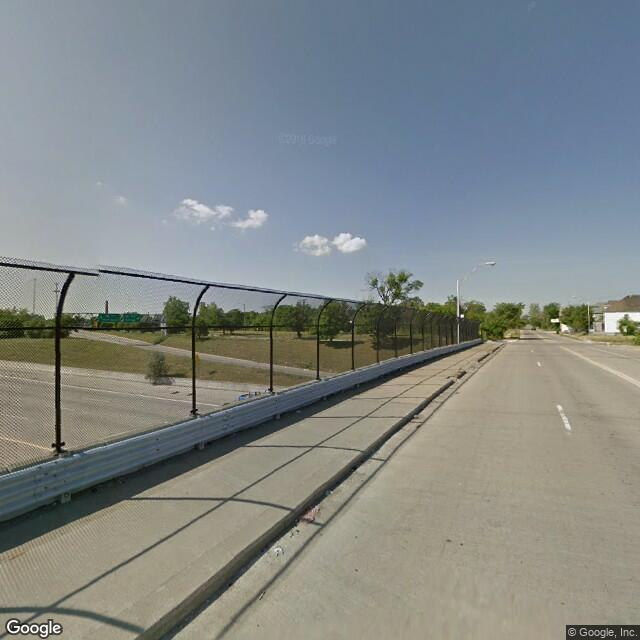litter: (301, 504, 318, 523), (412, 411, 420, 419), (117, 477, 126, 484), (453, 376, 462, 382), (272, 549, 280, 555), (290, 531, 296, 538), (327, 489, 332, 496), (294, 409, 297, 414)
